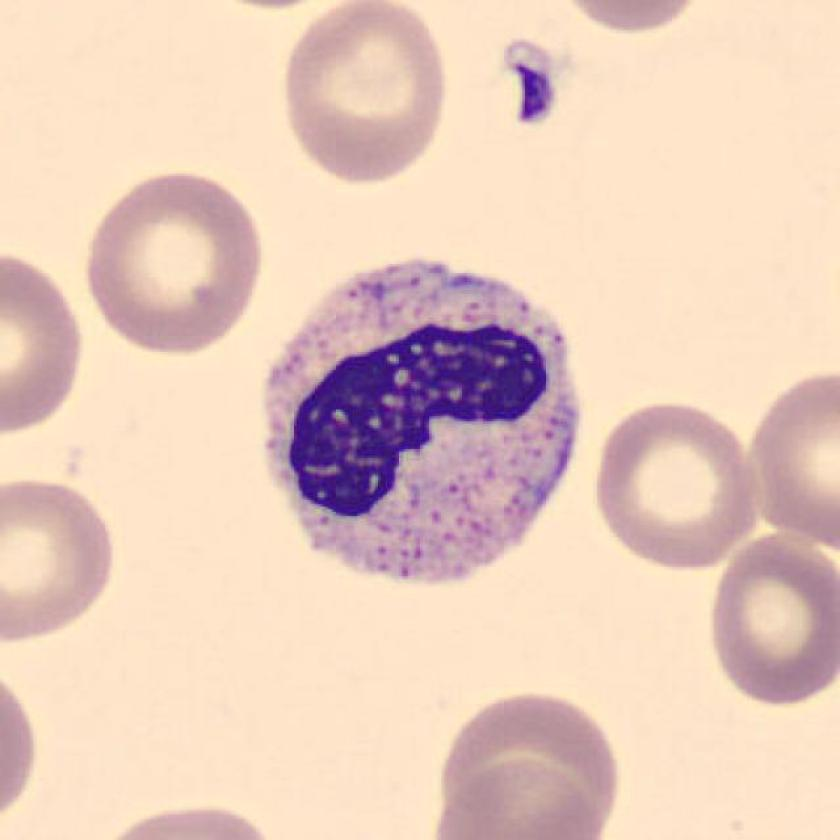neutrophil: (258, 257, 584, 590)
